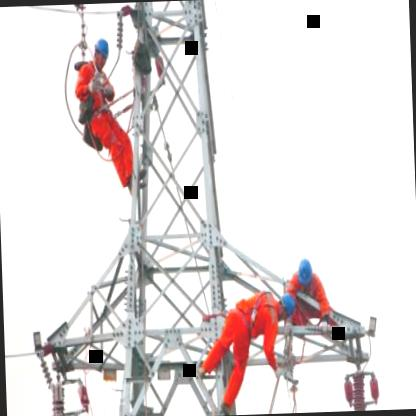helmet: (272, 291, 298, 324), (92, 32, 113, 68), (294, 257, 316, 291)
